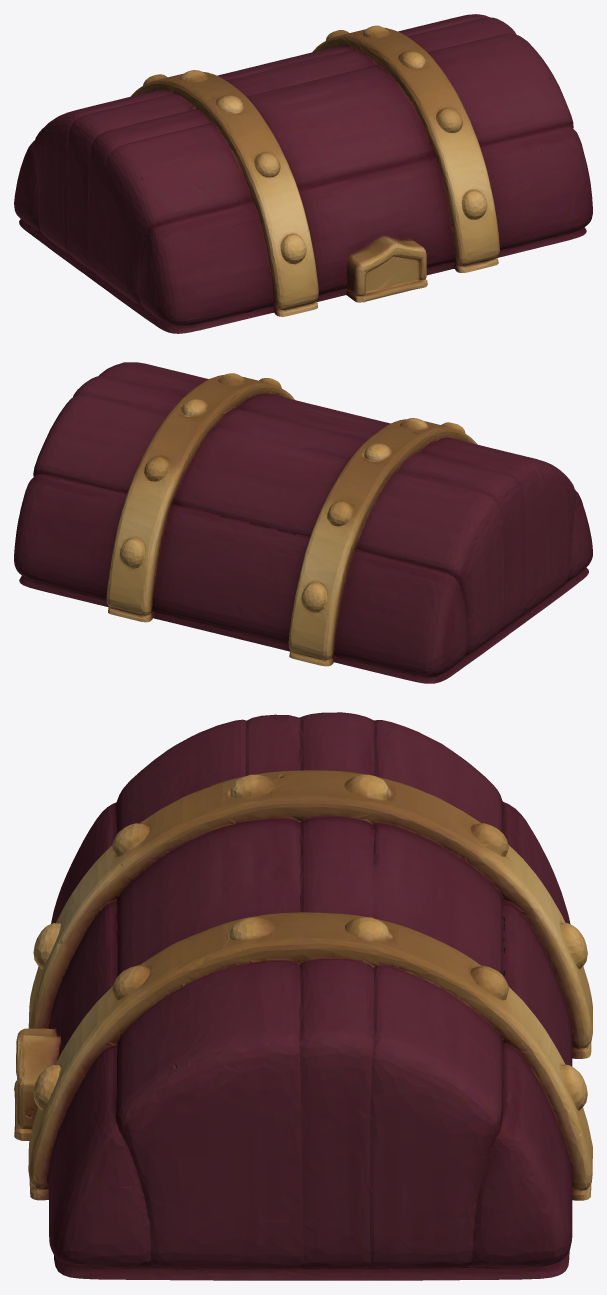
Rendered from chest_lid.glb.
The picture shows the model from 3 angles, top to bottom: view 1: azimuth 30°, elevation 25°; view 2: azimuth 150°, elevation 25°; view 3: azimuth 270°, elevation 25°; orthographic projection. The views are drawn at different scales.
Visible parts, largest first — view 1: source_surface_0; view 2: source_surface_0; view 3: source_surface_0.
Part boxes in pixels (<box>): source_surface_0: <box>14,14,592,333</box>; source_surface_0: <box>14,362,592,683</box>; source_surface_0: <box>14,712,592,1280</box>.
Size of the model in its own units: 0.324 by 0.117 by 0.2318.
Materials: 1 (1 with a texture image).
